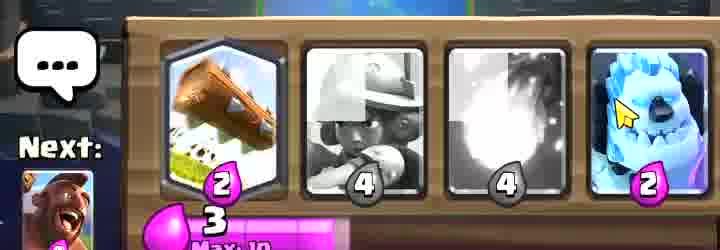hog-rider: (23, 171, 92, 250)
log: (170, 45, 281, 187)
